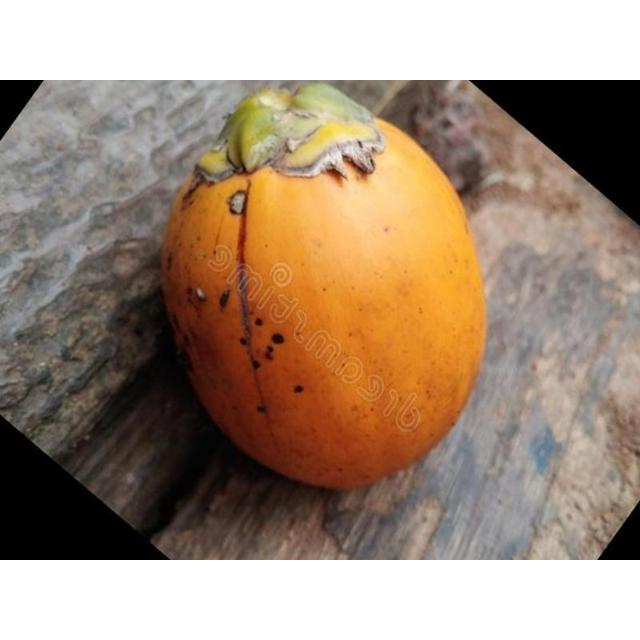good: (159, 85, 488, 492)
